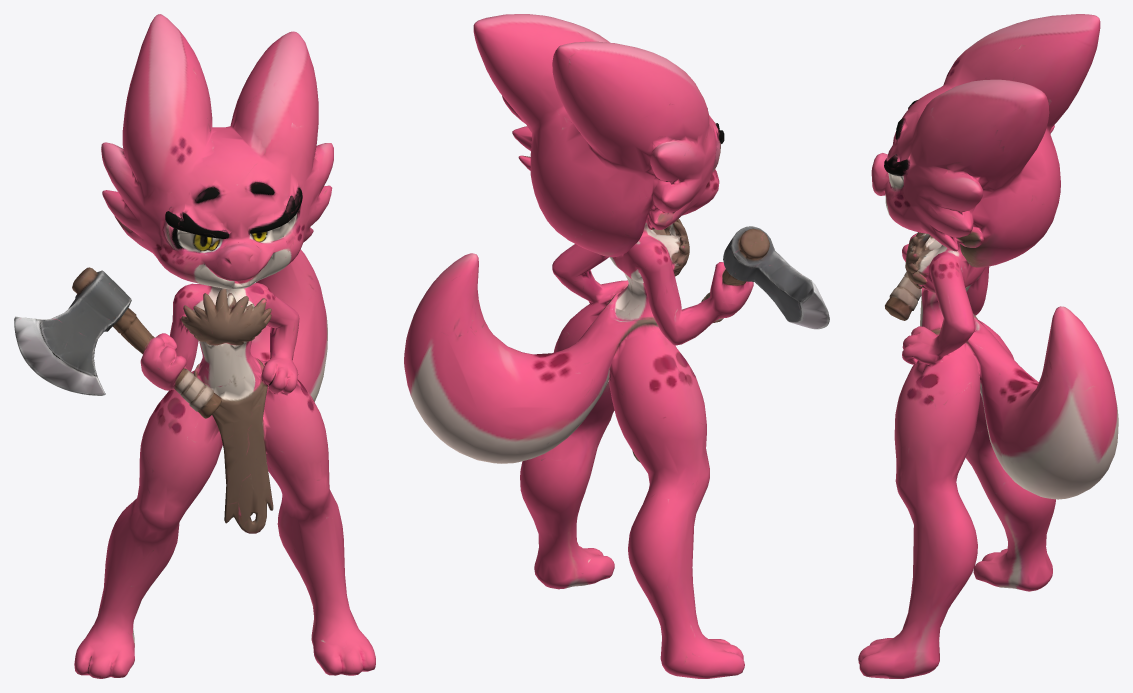
3 views of the same model, side by side, from view 1: azimuth 30°, elevation 25°; view 2: azimuth 150°, elevation 25°; view 3: azimuth 270°, elevation 25° (orthographic). The views are drawn at different scales.
Visible parts, largest first — view 1: Object_01; view 2: Object_01; view 3: Object_01.
Part boxes in pixels (x1,y1,x2,y2): Object_01: (14,14,375,678); Object_01: (404,14,829,678); Object_01: (858,14,1118,678).
Size of the model in its own units: 0.6146 by 1 by 0.3878.
1 material, 1 textured.
